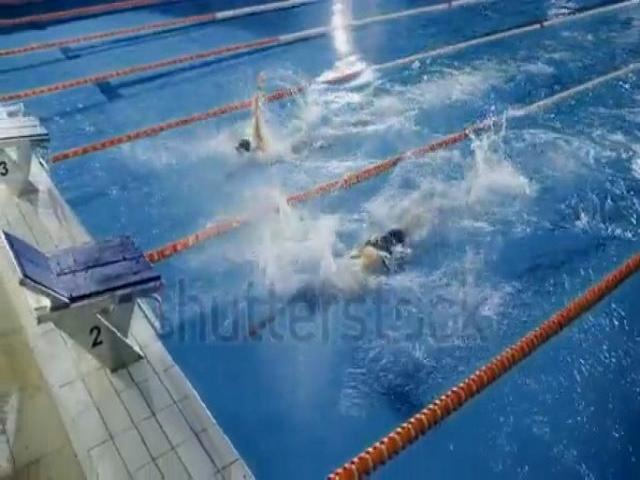swimming: (249, 246, 446, 327), (229, 106, 300, 178)
